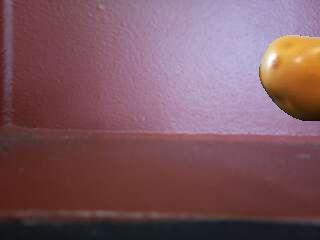Potato: (259, 34, 320, 125)
